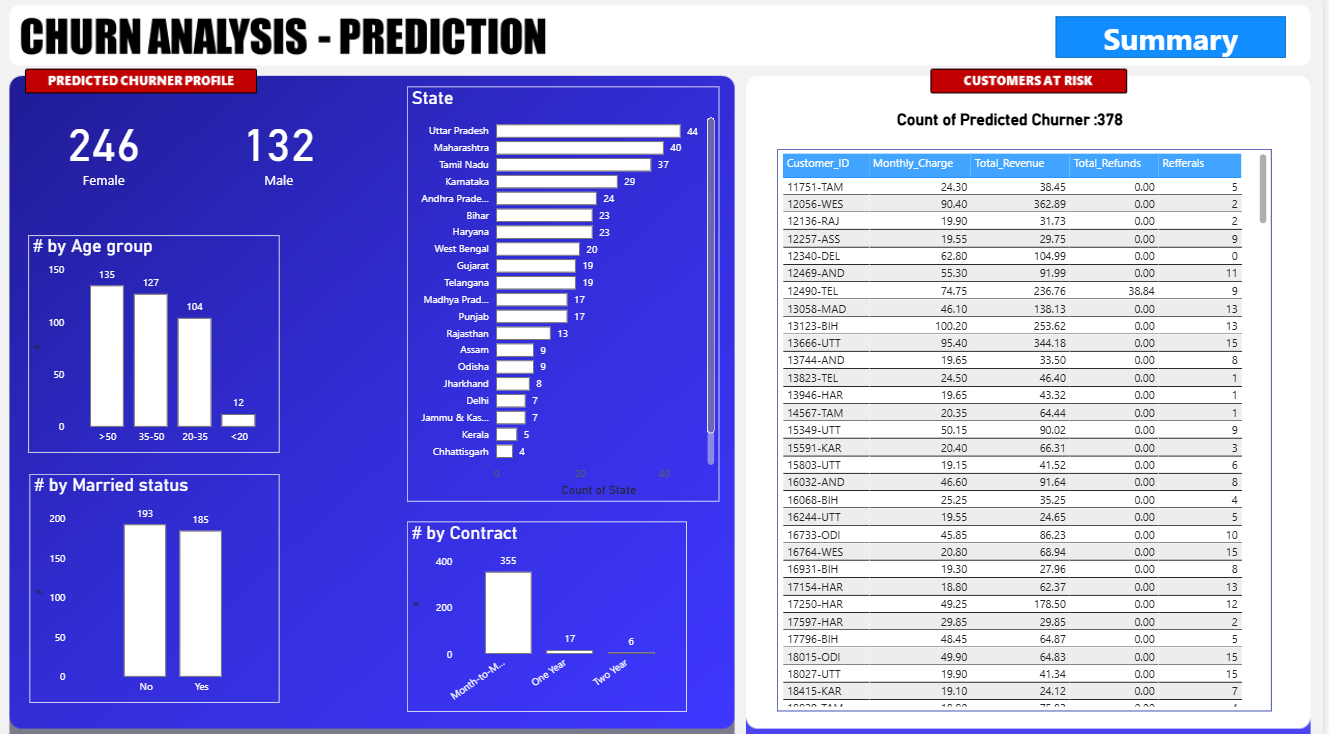

Layout of this report page (visuals, bound fields, positions):
{"tool":"powerbi","page":{"name":"Prediction","canvas":[1600,900],"ordinal":2},"visuals":[{"type":"tableEx","fields":{"Values":["Predictions.Customer_ID","Predictions.Monthly_Charge","Predictions.Total_Revenue","Predictions.Total_Refunds","Predictions.Number_of_Referrals"]},"box":[941,187,597.2,678.6],"z":0},{"type":"card","fields":{"Values":["Tbl_Measure.Titled Predicted Churner"]},"box":[1064.7,129.7,315.2,43.7],"z":1000},{"type":"card","fields":{"Values":["Tbl_Measure.Count Predicted Churn"]},"box":[37.7,129.7,182.5,113.1],"z":2000},{"type":"card","fields":{"Values":["Tbl_Measure.Count Predicted Churn"]},"box":[244.3,129.7,191.5,113.1],"z":3000},{"type":"clusteredColumnChart","fields":{"Category":["mapping_AgeGrp.Age group"],"Y":["CountNonNull(Predictions.Customer_ID)"]},"box":[37.7,291.1,303.1,262.4],"z":4000},{"type":"clusteredColumnChart","fields":{"Category":["Predictions.Married"],"Y":["CountNonNull(Predictions.Customer_ID)"]},"box":[39.2,579.1,301.6,276],"z":5000},{"type":"clusteredColumnChart","fields":{"Y":["CountNonNull(Predictions.Customer_ID)"],"Category":["Predictions.Contract"]},"box":[494.6,636.4,337.8,229.2],"z":6000},{"type":"clusteredBarChart","title":"State ","fields":{"Category":["Predictions.State"],"Y":["CountNonNull(Predictions.State)"]},"box":[494.6,111.6,377,500.7],"z":7000},{"type":"actionButton","box":[1277.3,27.1,277.5,49.8],"z":7001},{"type":"shape","box":[1277.3,27.1,277.5,49.8],"z":7002}]}

Visuals, with their boxes in screenshot pixels (x1, y1, x2, y2), scaled from the page's 1600x900 canvas onto the 1329x734 screenshot:
tableEx - Predictions.Customer_ID x Predictions.Monthly_Charge: pyautogui.locateOnScreen(782, 153, 1278, 706)
card - Tbl_Measure.Titled Predicted Churner: pyautogui.locateOnScreen(884, 106, 1146, 141)
card - Tbl_Measure.Count Predicted Churn: pyautogui.locateOnScreen(31, 106, 183, 198)
card - Tbl_Measure.Count Predicted Churn: pyautogui.locateOnScreen(203, 106, 362, 198)
clusteredColumnChart - mapping_AgeGrp.Age group x CountNonNull(Predictions.Customer_ID): pyautogui.locateOnScreen(31, 237, 283, 451)
clusteredColumnChart - Predictions.Married x CountNonNull(Predictions.Customer_ID): pyautogui.locateOnScreen(33, 472, 283, 697)
clusteredColumnChart - CountNonNull(Predictions.Customer_ID) x Predictions.Contract: pyautogui.locateOnScreen(411, 519, 691, 706)
"State " clusteredBarChart: pyautogui.locateOnScreen(411, 91, 724, 499)
actionButton: pyautogui.locateOnScreen(1061, 22, 1291, 63)
shape: pyautogui.locateOnScreen(1061, 22, 1291, 63)
